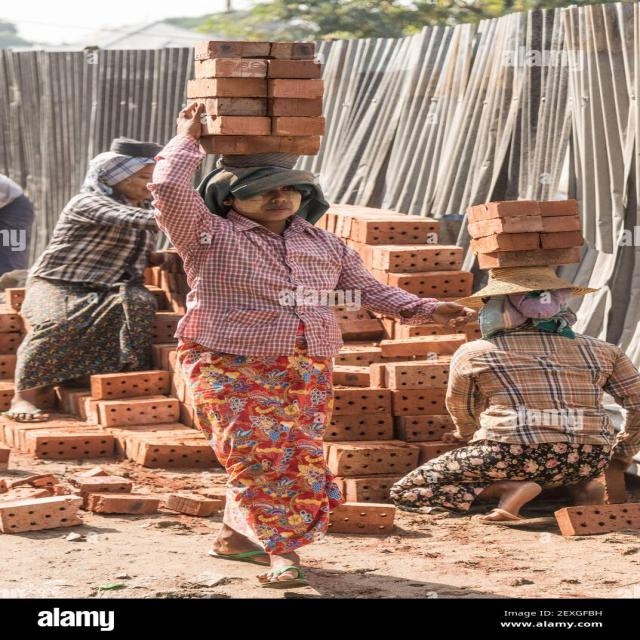no_boots: (468, 475, 569, 532), (250, 547, 319, 601), (199, 526, 271, 572), (3, 379, 62, 433)
no_gloves: (149, 100, 227, 140), (421, 293, 486, 338)
no_hardhat: (195, 148, 348, 238), (441, 264, 609, 344), (74, 134, 176, 207)
no_vest: (126, 136, 430, 360), (448, 332, 640, 453), (28, 185, 160, 296)
person: (134, 95, 484, 592), (367, 245, 640, 544), (6, 135, 184, 456)
